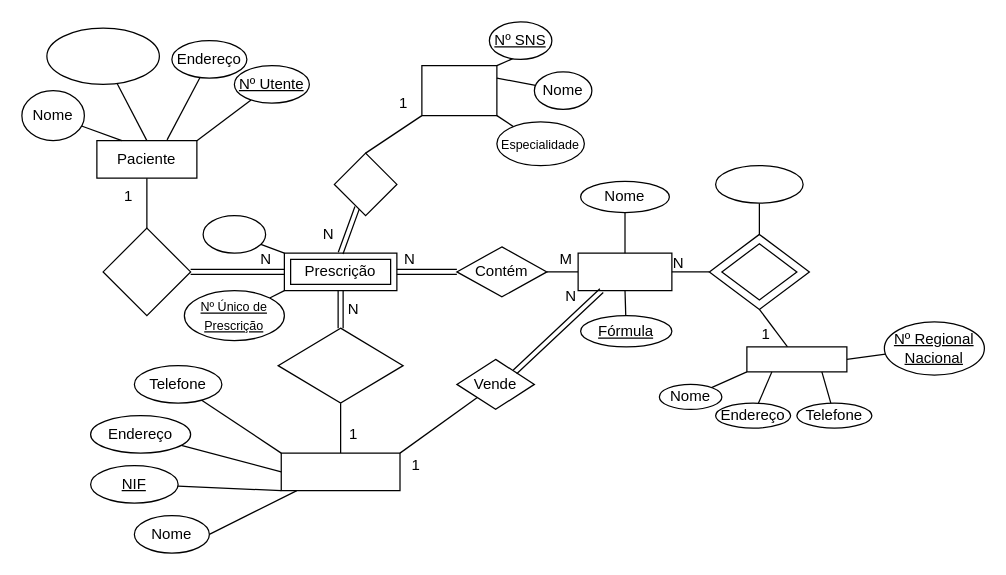
Image size: 1006x575. Some labels were removed from this diagram. The centre of each missing label's shape, as x and y in pixels:
associado: pixel 146 271
Data: pixel 234 233
Data de nascimento: pixel 102 55
Farmacêutica: pixel 796 359
Farmácia: pixel 340 471
Fármaco: pixel 624 271
Médico: pixel 459 90
Nome único: pixel 758 183
passa: pixel 365 184
Processado por: pixel 340 365
Produz: pixel 759 271
